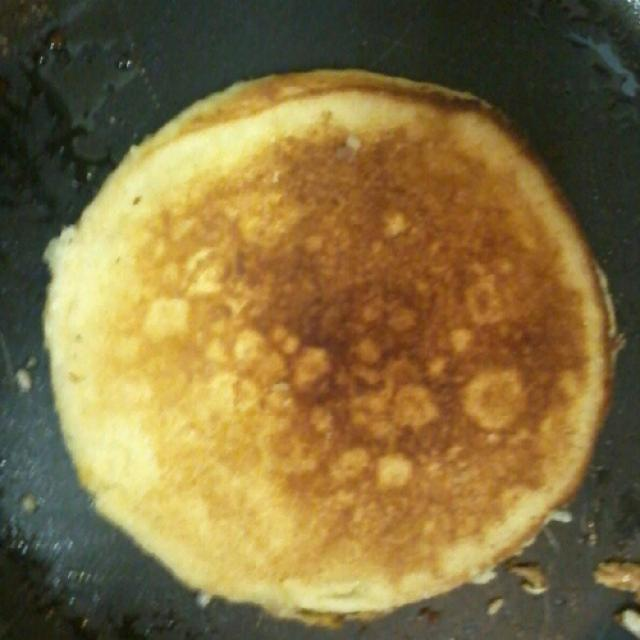蛋糕甜品: (8, 15, 631, 626)
